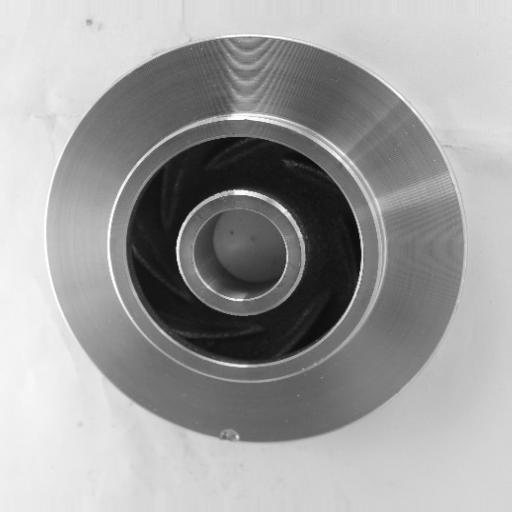crack: (208, 419, 251, 449)
unpolished_casting: (50, 35, 469, 446)
